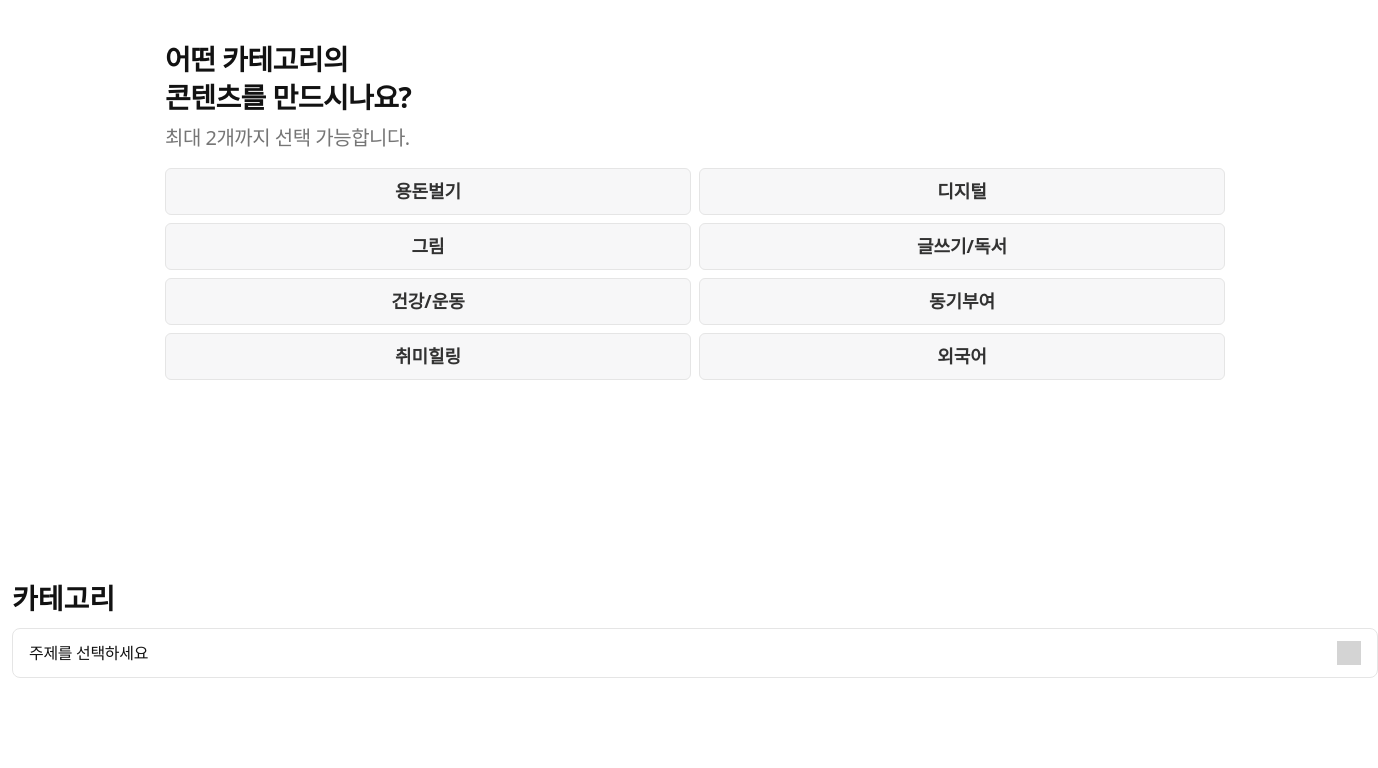
Test case: CategorySelectPage 통합 테스트 › 메인 화면 연동 › 카테고리를 선택하면 CategorySelector에 반영되어야 한다
The width and height of the screenshot is (1378, 768).
Click the button with aria-label "용돈벌기 카테고리 선택".
click(428, 192)  # box [165,168,691,215]
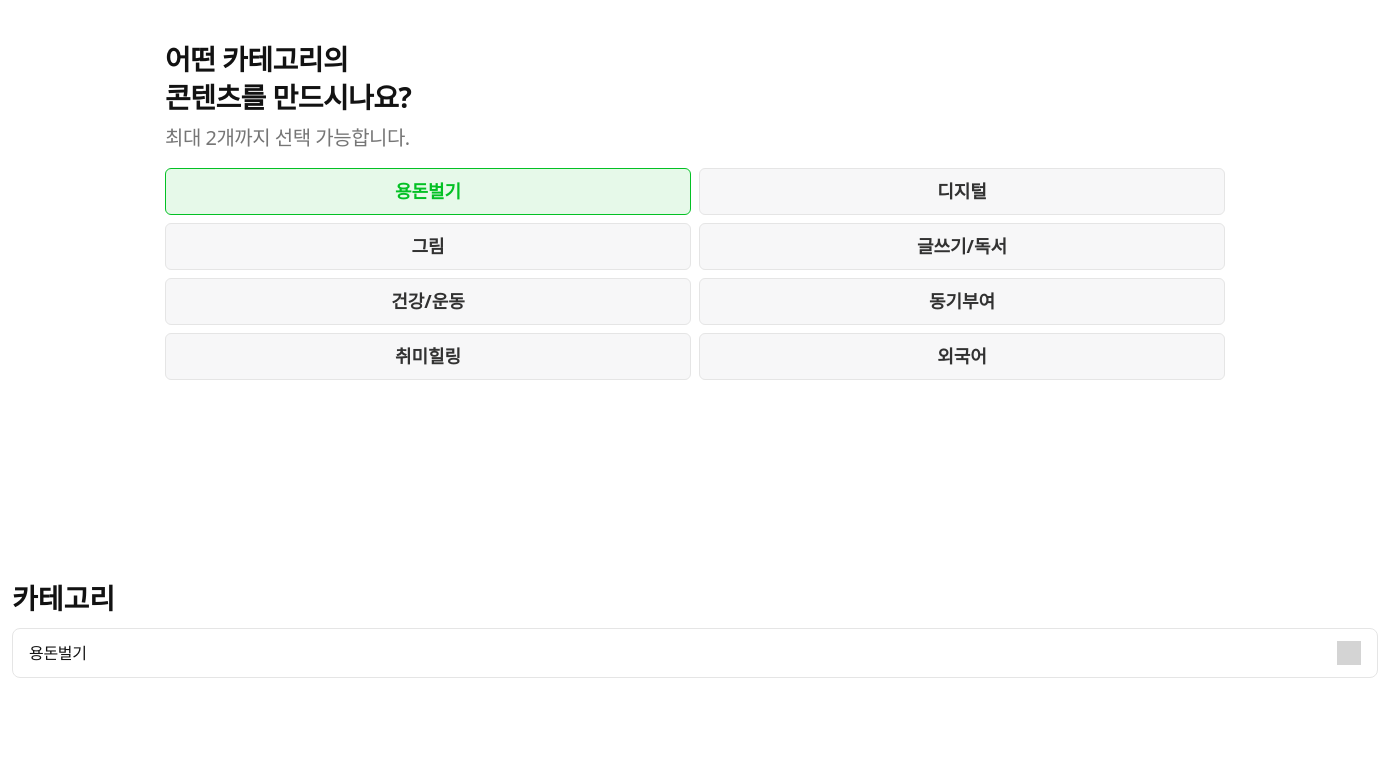
Expected: the link reads "용돈벌기", [12,628,1377,678]
